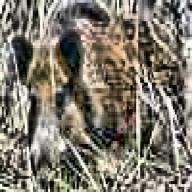boar: (5, 0, 192, 166)
